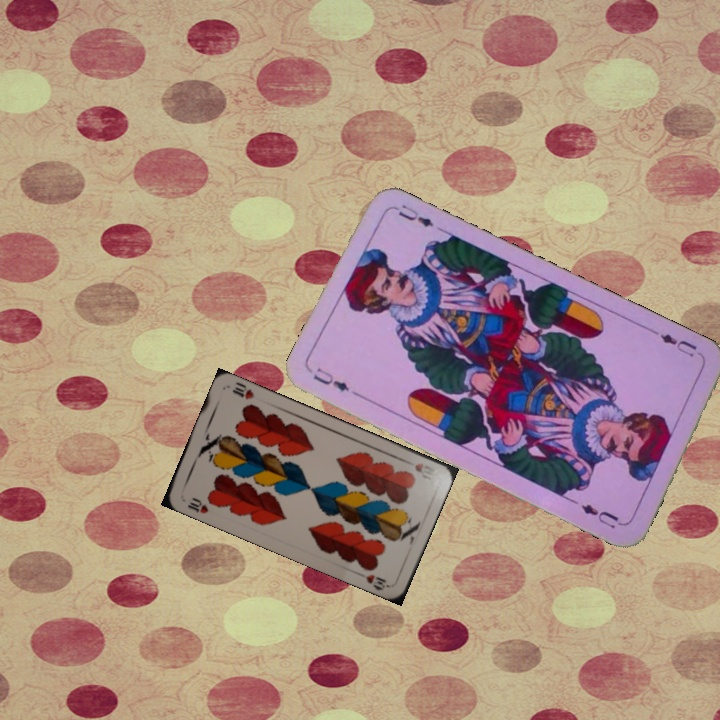EU: (309, 364, 363, 400), (656, 329, 700, 360)
H10: (400, 456, 441, 479), (183, 493, 211, 516)
